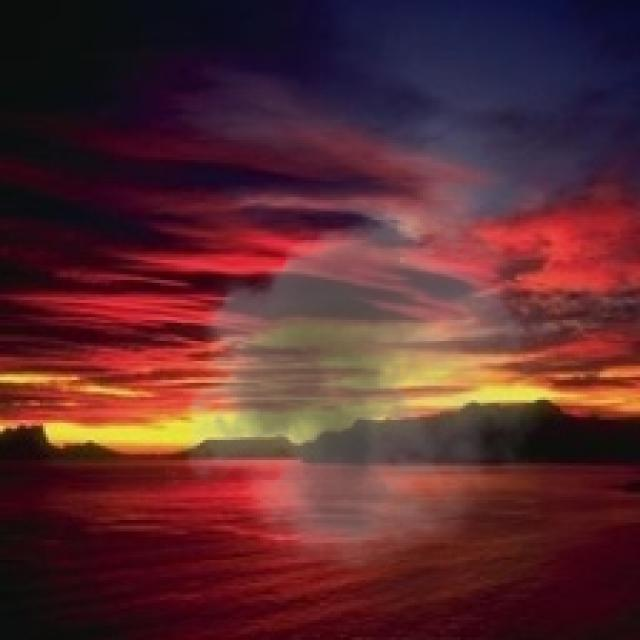Smoke: (166, 197, 568, 572)
